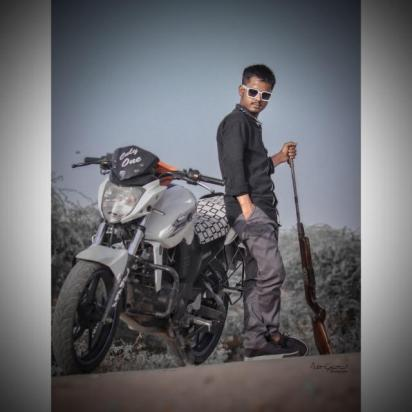Gun: (287, 145, 333, 356)
